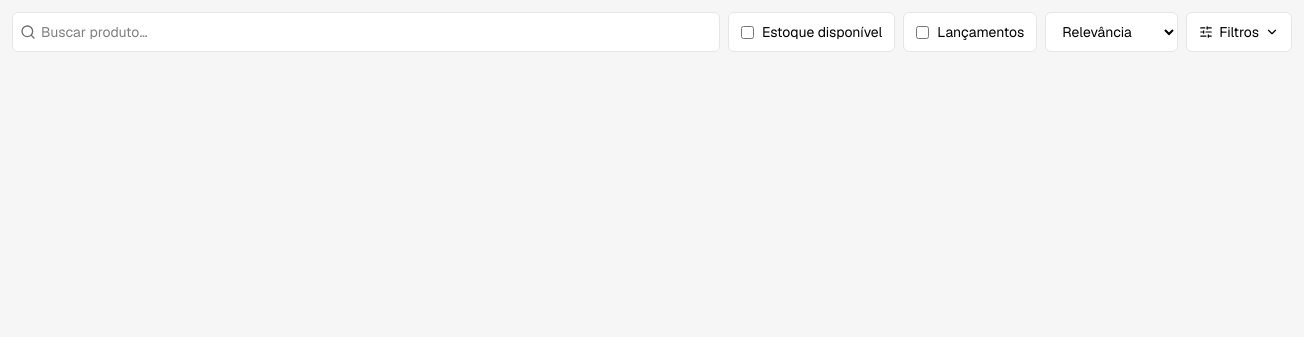
Test: CatalogFilters › opens the facets panel on toggle and caps a 34-color list behind a 'mais' pill
Click the button "Filtros" at (1239, 32), box [1186, 12, 1292, 52]
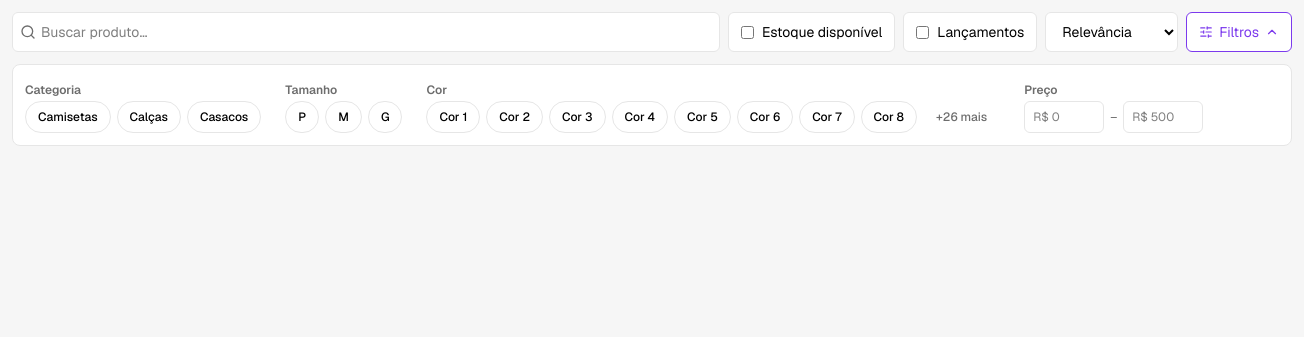
Check: the text "Categoria" is shown, box [25, 82, 81, 98]
Check: the button "Cor 1" is shown, box [426, 101, 480, 133]
Check: the button "+26 mais" is shown
Click the button "+26 mais" at (962, 117), box [923, 101, 1000, 133]
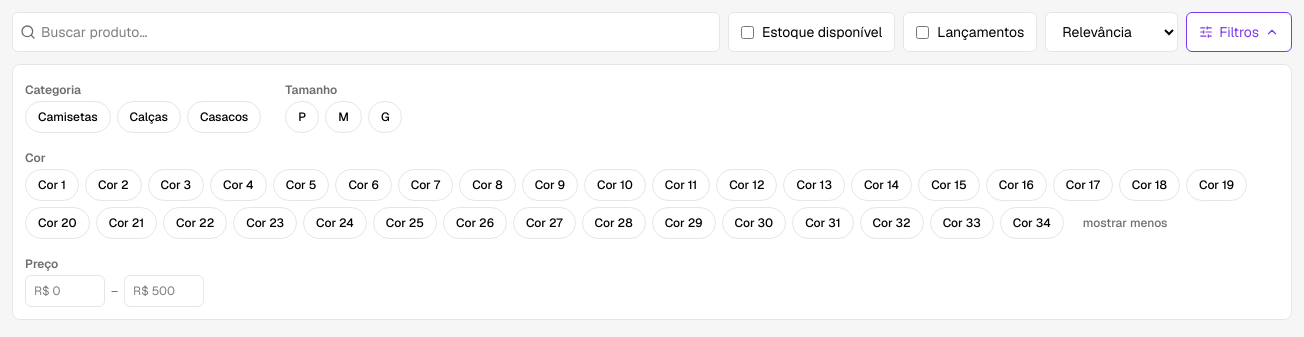
Check: the button "Cor 9" is shown, box [522, 169, 578, 201]
Check: the button "mostrar menos" is shown, box [1070, 207, 1181, 239]
